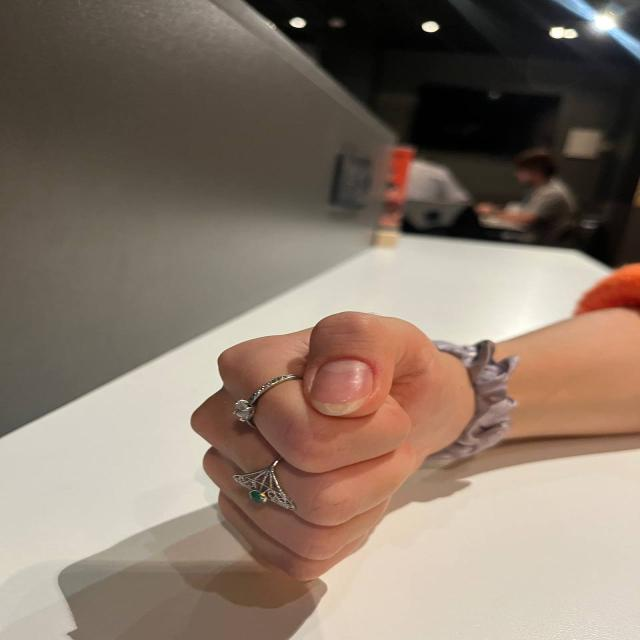a: (171, 275, 476, 585)
